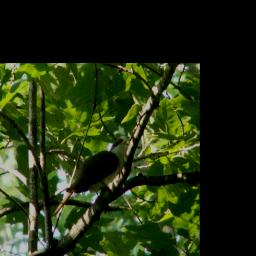Cuckoo: (50, 136, 132, 218)
